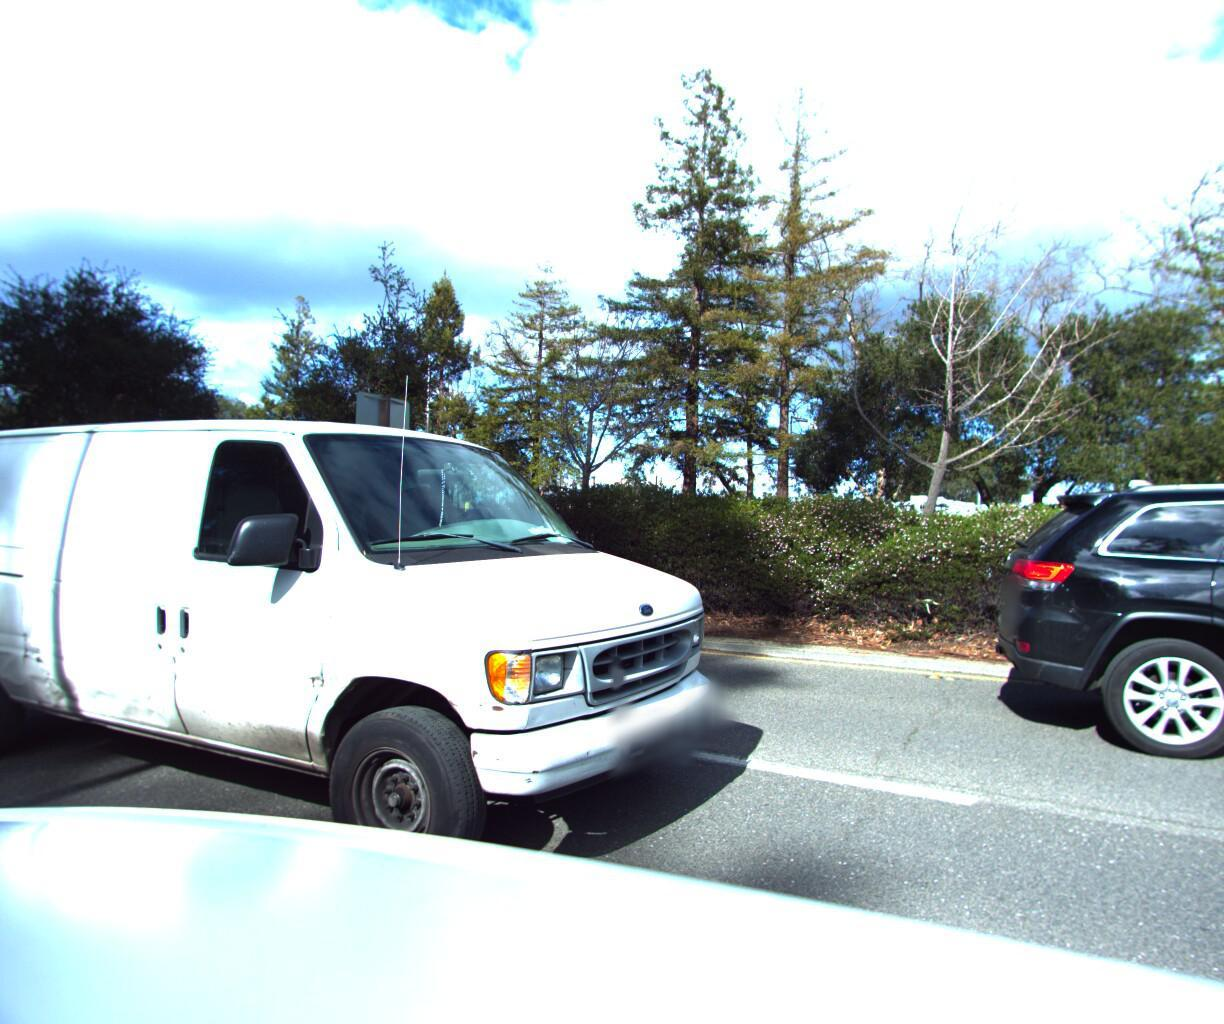car: (0, 336, 764, 957), (992, 457, 1224, 851)
